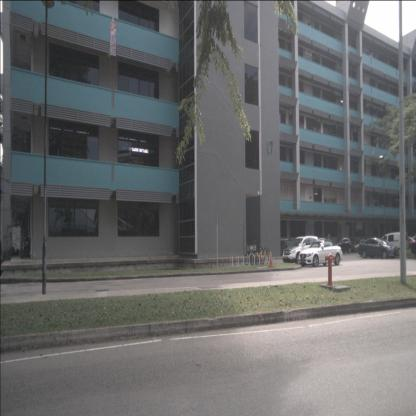movable_object-trafficcone: (268, 251, 274, 268)
vehicle-car: (298, 239, 343, 267), (282, 236, 319, 265), (358, 237, 398, 259), (378, 231, 408, 253), (276, 240, 297, 257), (332, 237, 352, 254), (399, 236, 415, 252), (351, 239, 369, 252)
